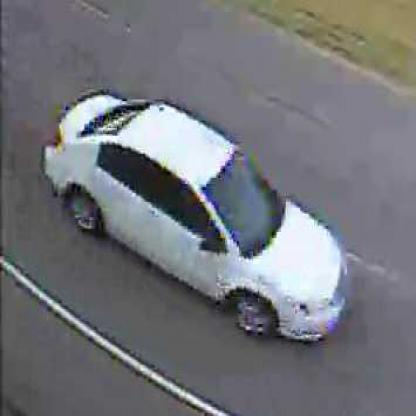car: (41, 93, 355, 345)
